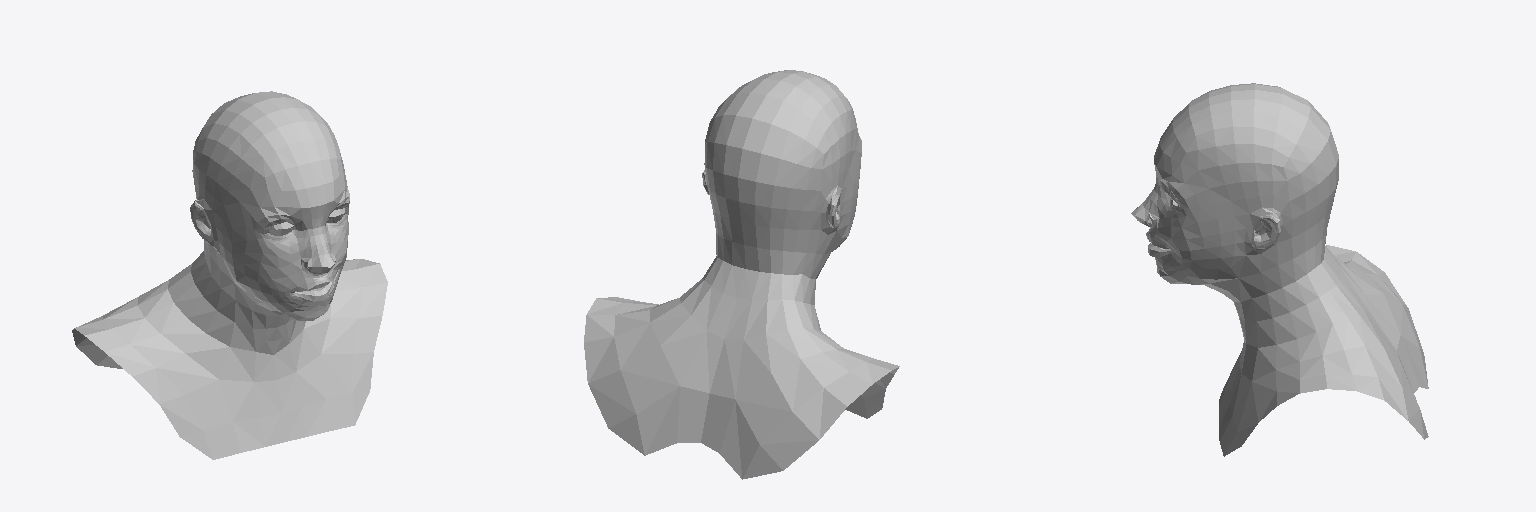
The model's file is LSmile.obj.
3 views of the same model, side by side, from view 1: azimuth 30°, elevation 25°; view 2: azimuth 150°, elevation 25°; view 3: azimuth 270°, elevation 25° (orthographic).
Parts seen in each view (by area): view 1: Lsmile Blendshapes; view 2: Lsmile Blendshapes; view 3: Lsmile Blendshapes.
Boxes of the visible parts, x1=… form: Lsmile Blendshapes: x1=72, y1=91, x2=387, y2=459; Lsmile Blendshapes: x1=584, y1=70, x2=899, y2=479; Lsmile Blendshapes: x1=1131, y1=83, x2=1428, y2=456.
Bounding box in the file's own units: 449 × 482 × 391.